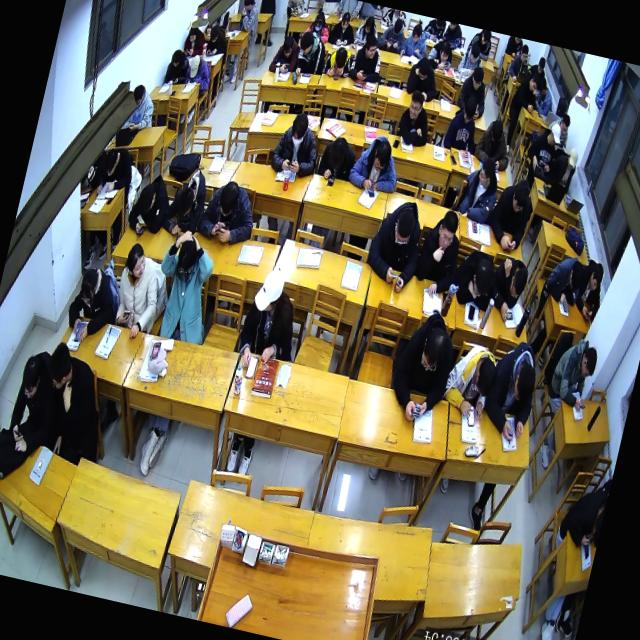bow: (475, 335, 546, 450), (157, 162, 213, 242), (123, 167, 176, 242), (447, 243, 501, 312), (483, 250, 532, 324), (539, 250, 587, 312), (403, 51, 444, 103), (266, 29, 304, 77), (318, 40, 356, 84), (424, 36, 456, 74), (305, 8, 335, 46)
down: (40, 340, 77, 398), (416, 324, 450, 376), (14, 352, 46, 404), (171, 234, 203, 283), (508, 358, 540, 406), (469, 355, 501, 402), (467, 254, 497, 302), (388, 207, 418, 250), (214, 174, 243, 218), (75, 264, 102, 308), (286, 109, 312, 151), (368, 136, 393, 178), (576, 342, 602, 382), (323, 134, 350, 172), (507, 177, 532, 218), (172, 184, 198, 222), (134, 182, 160, 218), (504, 262, 528, 300), (458, 94, 480, 128), (586, 260, 606, 295), (566, 260, 586, 294), (486, 118, 507, 150), (128, 82, 148, 112), (414, 54, 433, 84), (467, 64, 486, 94), (546, 119, 565, 149), (296, 28, 316, 56), (185, 51, 204, 79), (331, 44, 350, 72), (278, 31, 296, 59), (562, 146, 580, 174), (436, 36, 454, 63), (466, 42, 482, 68), (407, 22, 424, 46), (557, 112, 572, 139), (311, 8, 327, 32), (362, 12, 376, 36), (185, 23, 200, 45), (389, 14, 404, 36), (338, 7, 352, 30), (517, 42, 532, 63), (207, 22, 220, 46), (168, 48, 182, 70), (534, 54, 548, 76), (526, 71, 540, 92)
lookup: (431, 206, 461, 254), (403, 89, 426, 124)
sit: (26, 338, 114, 466), (384, 302, 464, 428), (143, 223, 223, 345), (231, 258, 310, 380), (1, 344, 69, 459), (361, 191, 432, 295), (106, 237, 170, 344), (408, 203, 469, 303), (60, 258, 126, 350), (438, 339, 504, 424), (195, 172, 262, 251), (482, 172, 540, 256), (552, 474, 610, 558), (543, 332, 602, 414), (449, 148, 507, 228), (266, 106, 327, 182), (344, 128, 406, 200), (468, 112, 518, 173), (440, 89, 486, 155), (393, 84, 440, 148), (520, 116, 564, 182), (570, 254, 610, 322), (94, 140, 139, 200), (316, 128, 362, 184), (454, 60, 494, 121), (292, 25, 332, 82), (346, 28, 388, 82), (122, 80, 160, 136), (396, 18, 434, 65), (508, 68, 542, 116), (549, 142, 581, 192), (375, 12, 409, 56), (182, 51, 215, 96), (326, 8, 359, 49), (454, 39, 486, 80), (162, 47, 192, 89), (506, 39, 534, 84), (351, 11, 382, 51), (530, 76, 558, 118), (202, 21, 231, 60), (180, 20, 208, 60), (235, 0, 264, 35)
